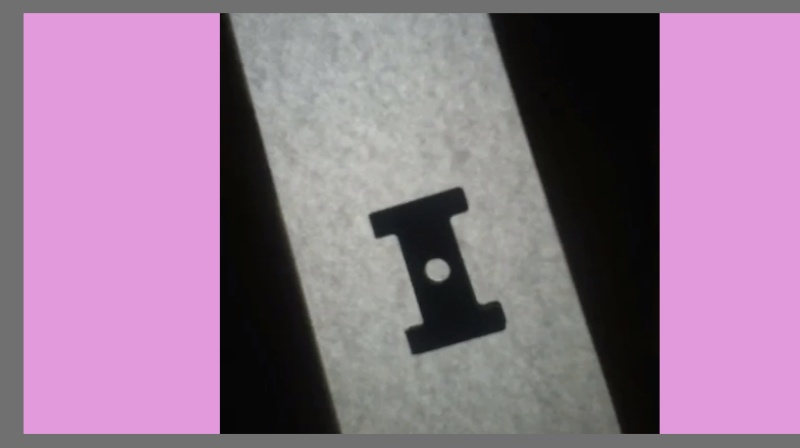O002: (366, 179, 508, 354)
